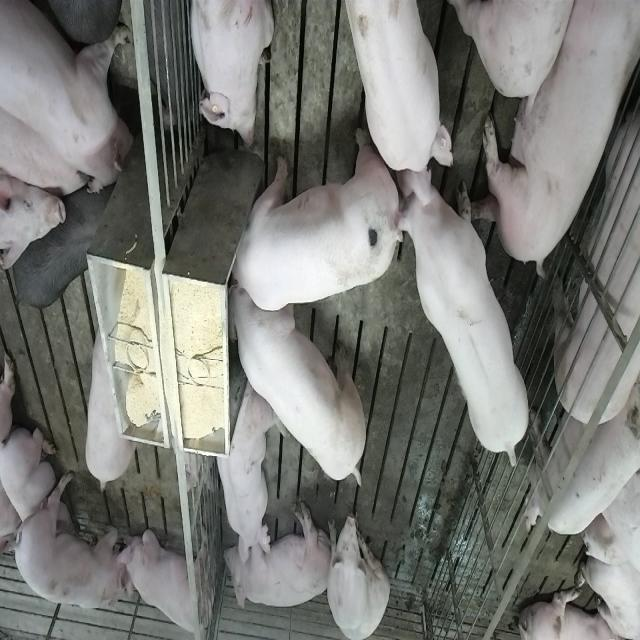Feeding: (220, 126, 394, 312), (230, 282, 370, 496)
Lateral_lying: (223, 500, 333, 614)
Sitting: (122, 517, 218, 640), (326, 503, 390, 637)
Standing: (390, 163, 530, 477), (551, 68, 640, 434), (2, 1, 136, 194), (339, 0, 452, 172), (527, 384, 640, 540), (14, 474, 130, 616), (11, 192, 109, 310), (81, 321, 133, 497)
Sternal_lying: (186, 0, 274, 151), (210, 382, 276, 566), (2, 428, 78, 558)
